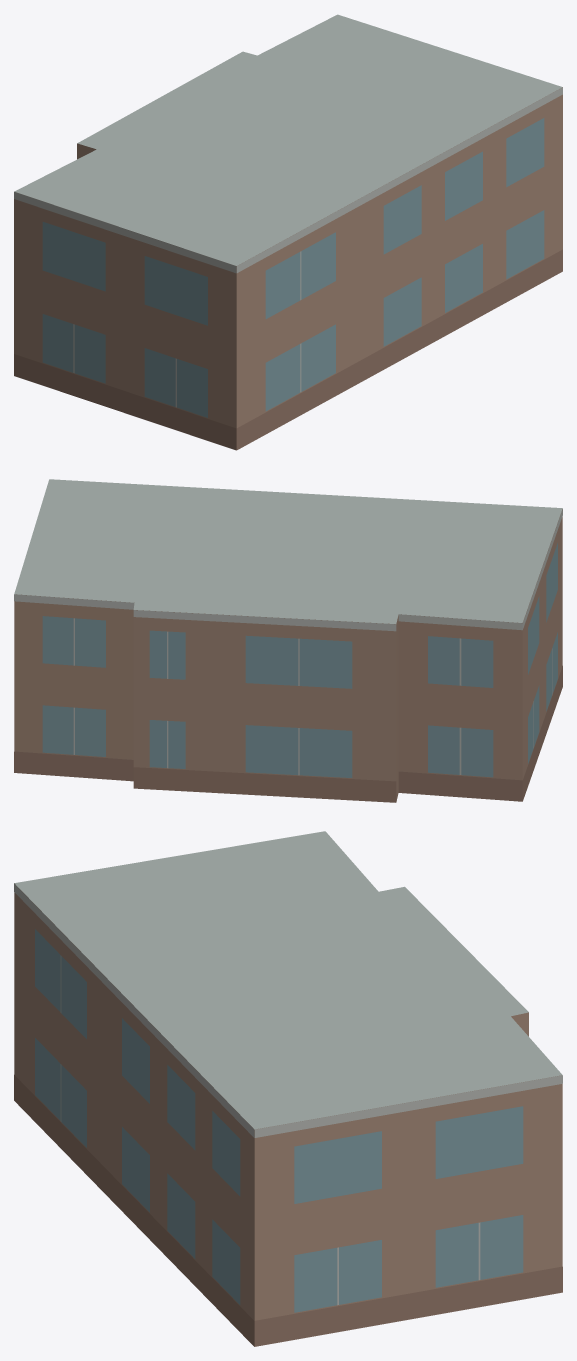
Rendered from survey-upis-32850525.glb.
3 renders of one model, top to bottom at view 1: azimuth 30°, elevation 25°; view 2: azimuth 150°, elevation 25°; view 3: azimuth 270°, elevation 25°, orthographic. The views are drawn at different scales.
Visible parts, largest first — view 1: survey-upis-32850525.tmp; view 2: survey-upis-32850525.tmp; view 3: survey-upis-32850525.tmp.
Part boxes in pixels (bbox=[...]): survey-upis-32850525.tmp: bbox=[14, 14, 562, 450]; survey-upis-32850525.tmp: bbox=[14, 479, 562, 802]; survey-upis-32850525.tmp: bbox=[14, 831, 562, 1346].
Size of the model in its own units: 17.97 by 6.1 by 13.96.
